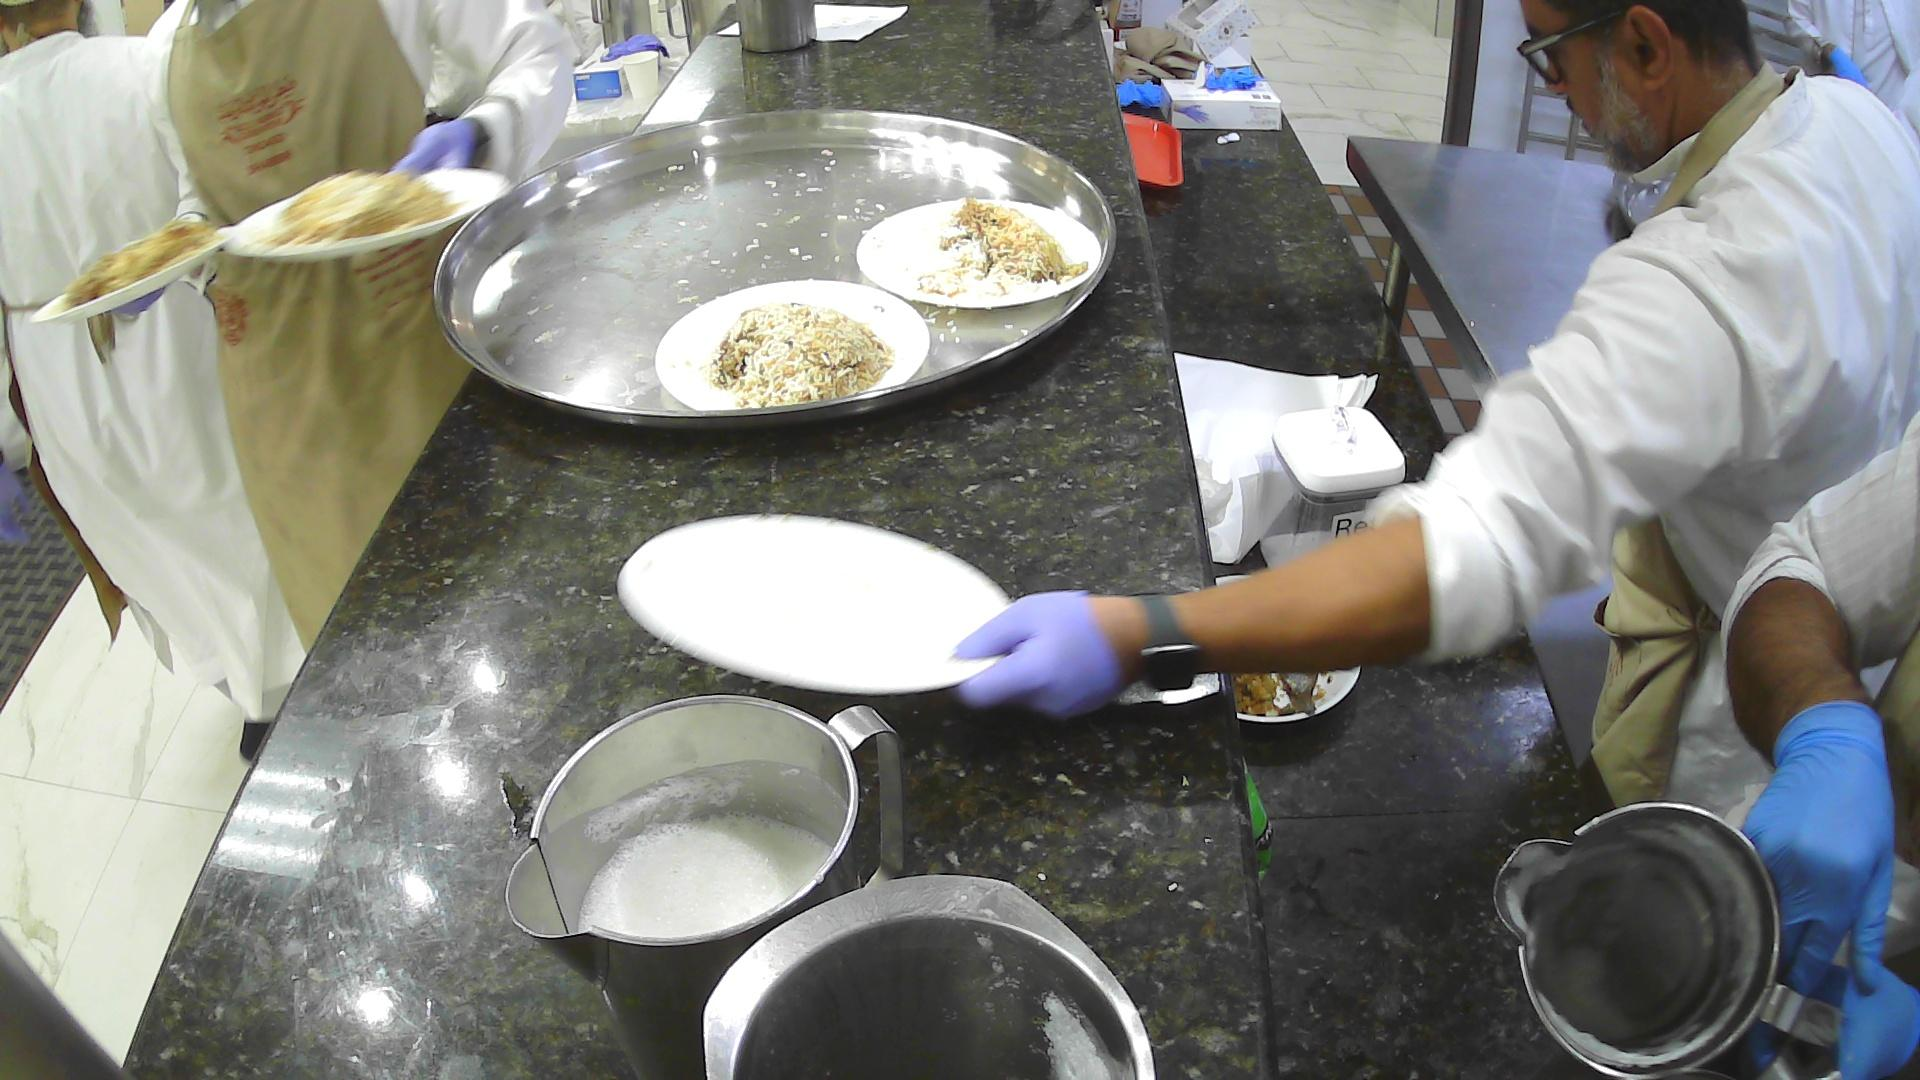thaal: (431, 107, 1120, 435)
